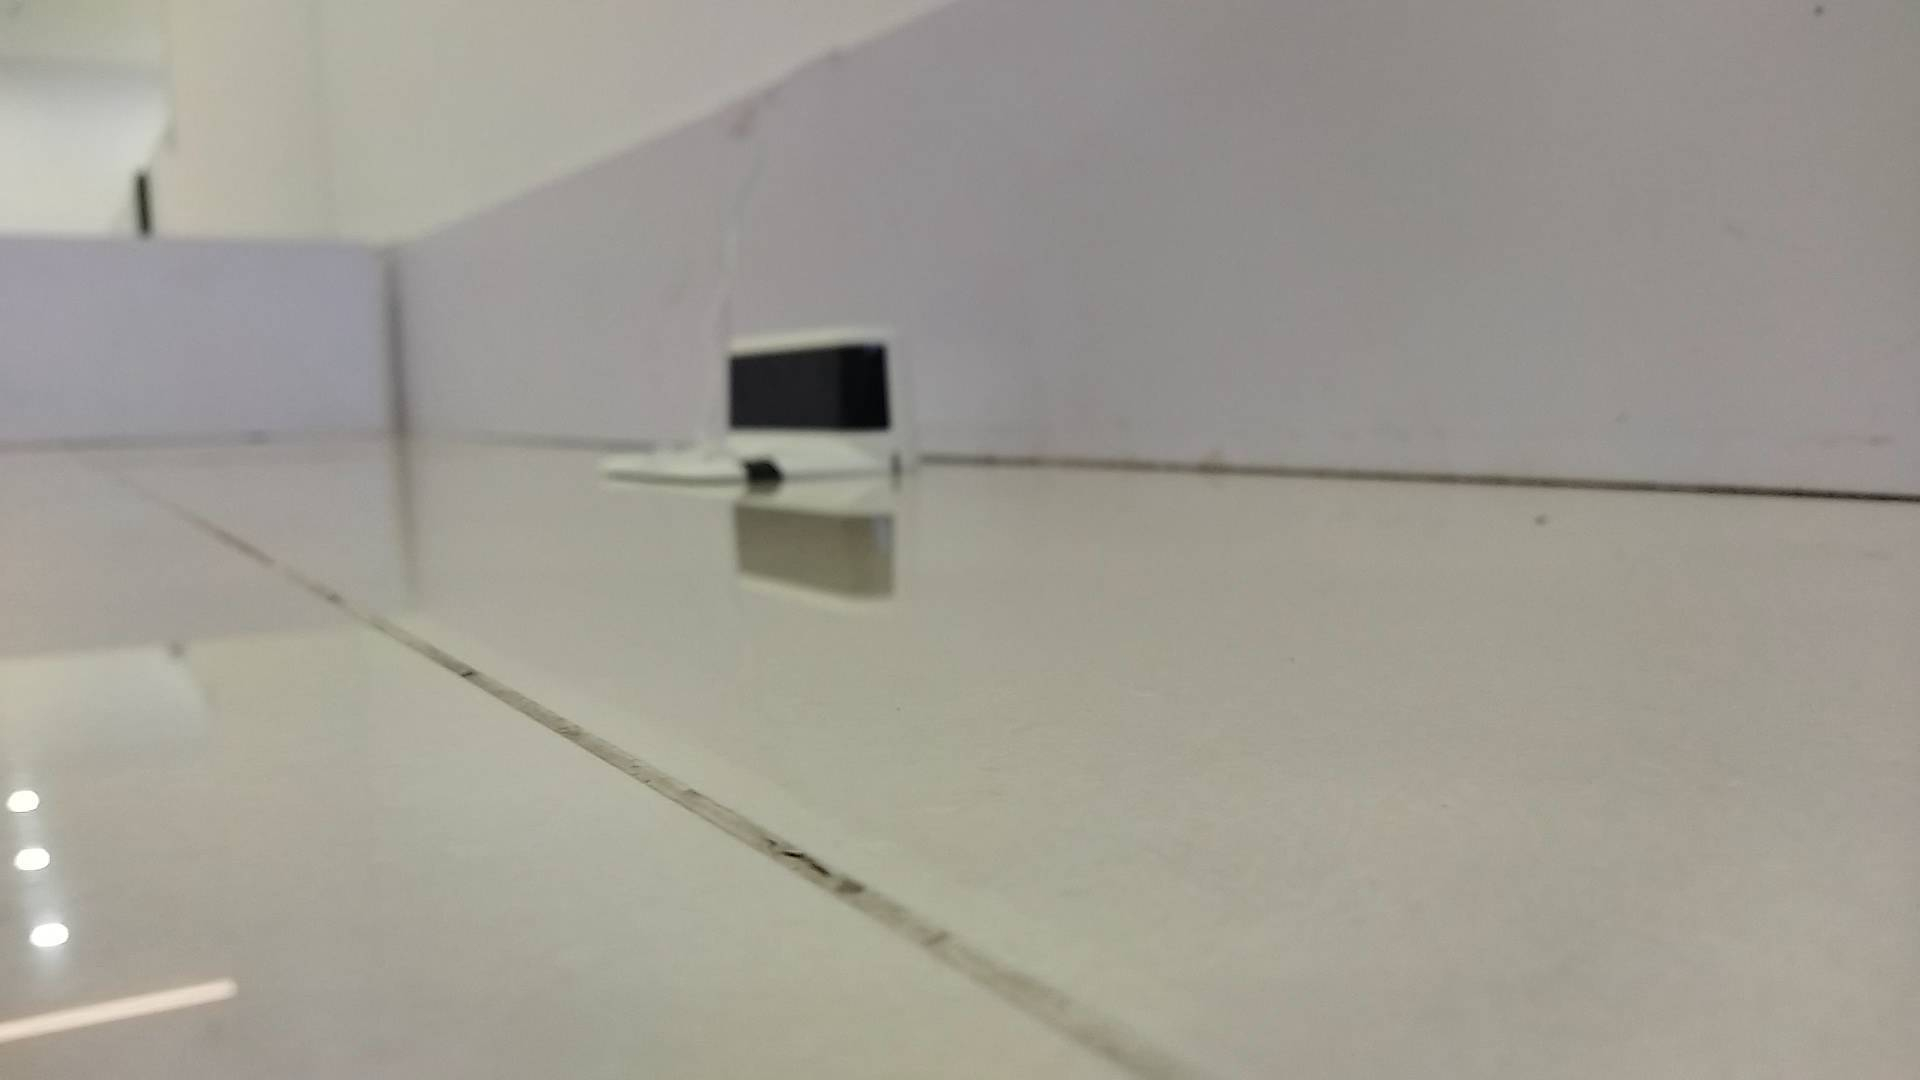recharge seat: (603, 324, 914, 485)
